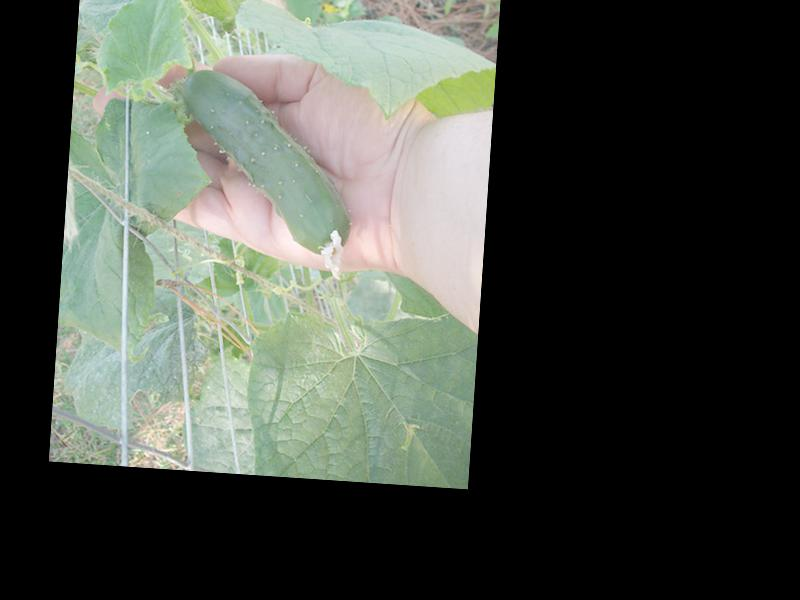Cucumber: (170, 70, 359, 281)
